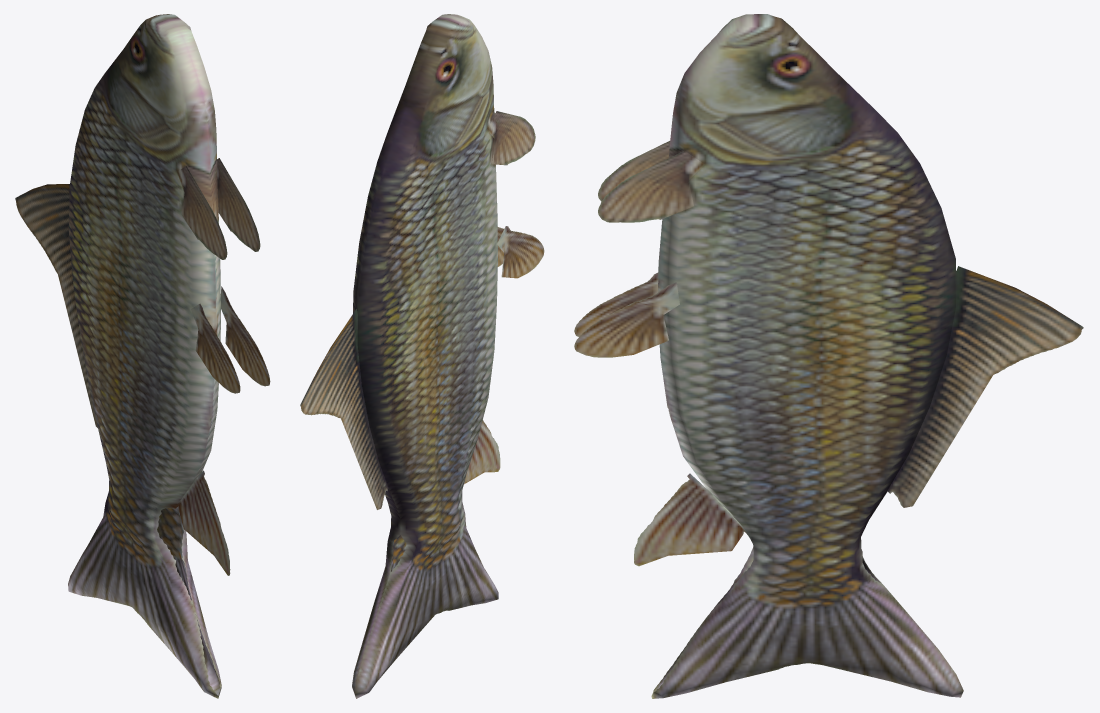
File: fish.obj
The picture shows the model from 3 angles, left to right: view 1: azimuth 30°, elevation 25°; view 2: azimuth 150°, elevation 25°; view 3: azimuth 270°, elevation 25°; orthographic projection. The views are drawn at different scales.
Visible parts, largest first — view 1: fish_Cube; view 2: fish_Cube; view 3: fish_Cube.
Boxes of the visible parts, x1=… form: fish_Cube: x1=15, y1=14, x2=270, y2=698; fish_Cube: x1=300, y1=14, x2=544, y2=698; fish_Cube: x1=574, y1=14, x2=1083, y2=698.
Bounding box in the file's own units: 0.0664 × 1.05 × 0.7136.
